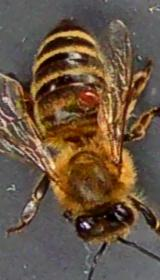varroa_mite: (76, 88, 106, 112)
